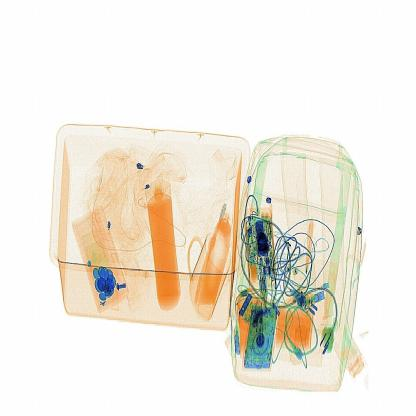scissors: (258, 230, 278, 260)
